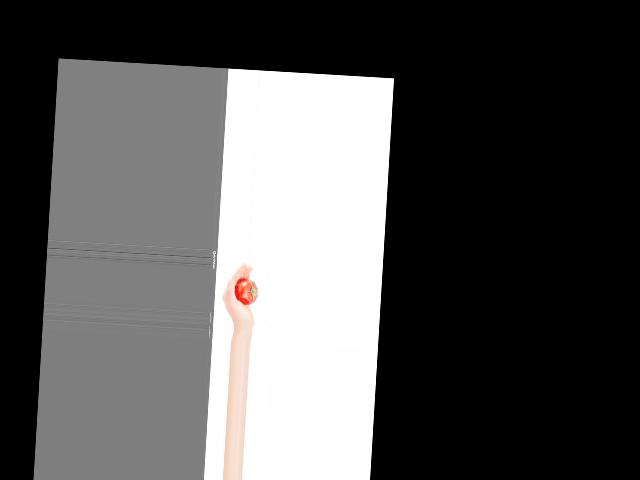tomato: (234, 279, 257, 306)
